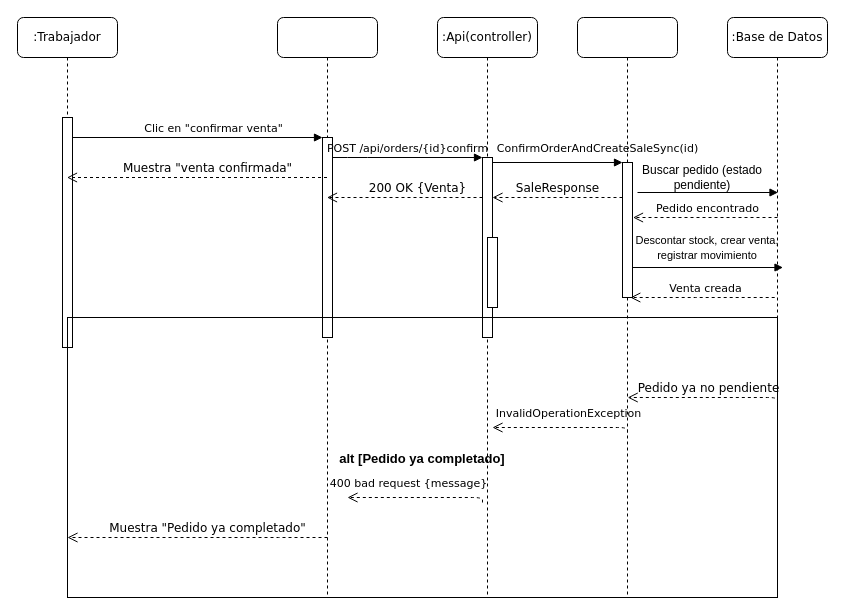
Some shapes in this 845 by 615 pixel diagram are drawn without their labels. Here are the shapes that lost their labels. From the top down, the centre of each, then its label:
pixel 327 307: :Blazor(web)
pixel 627 307: :SaleService
